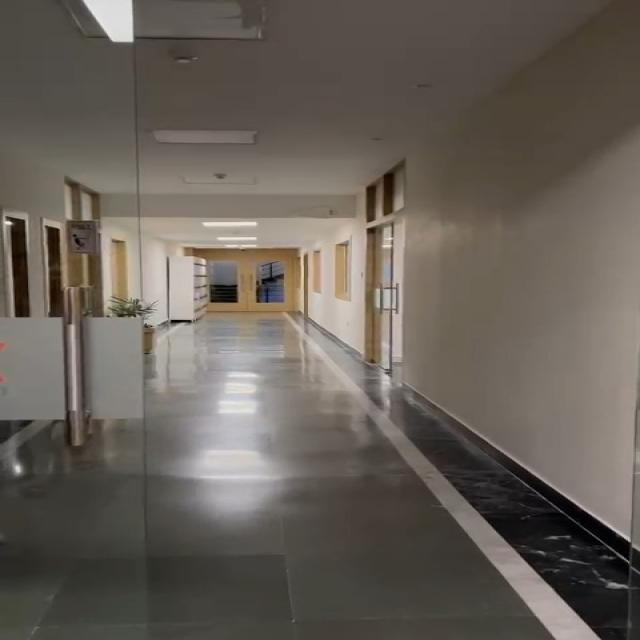door: (172, 234, 322, 332), (355, 204, 394, 355)
floor: (115, 325, 428, 640)
wall: (398, 108, 640, 476)
